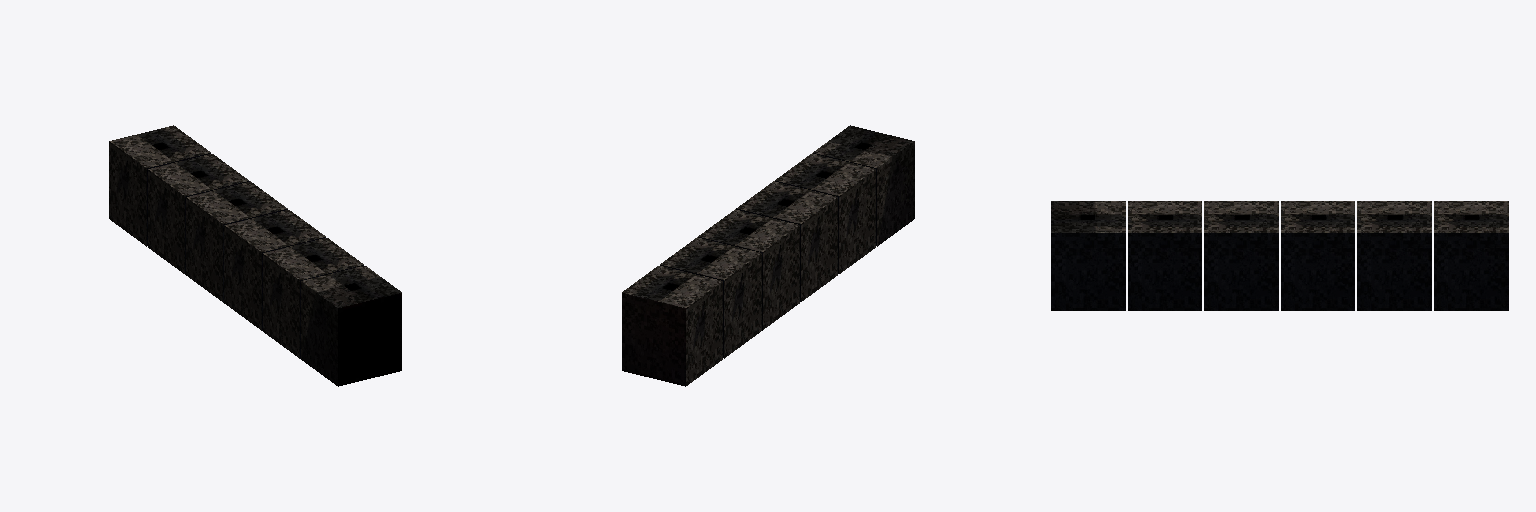
The picture shows the model from 3 angles: view 1: azimuth 30°, elevation 25°; view 2: azimuth 150°, elevation 25°; view 3: azimuth 270°, elevation 25°; orthographic projection.
Visible parts, largest first — view 1: COD_2; view 2: COD_2; view 3: COD_2.
Part boxes in pixels (bbox=[...]): COD_2: bbox=[109, 125, 401, 386]; COD_2: bbox=[622, 125, 914, 386]; COD_2: bbox=[1051, 201, 1508, 310].
Size of the model in its own units: 39.41 by 45.63 by 241.
1 materials, 1 textured.